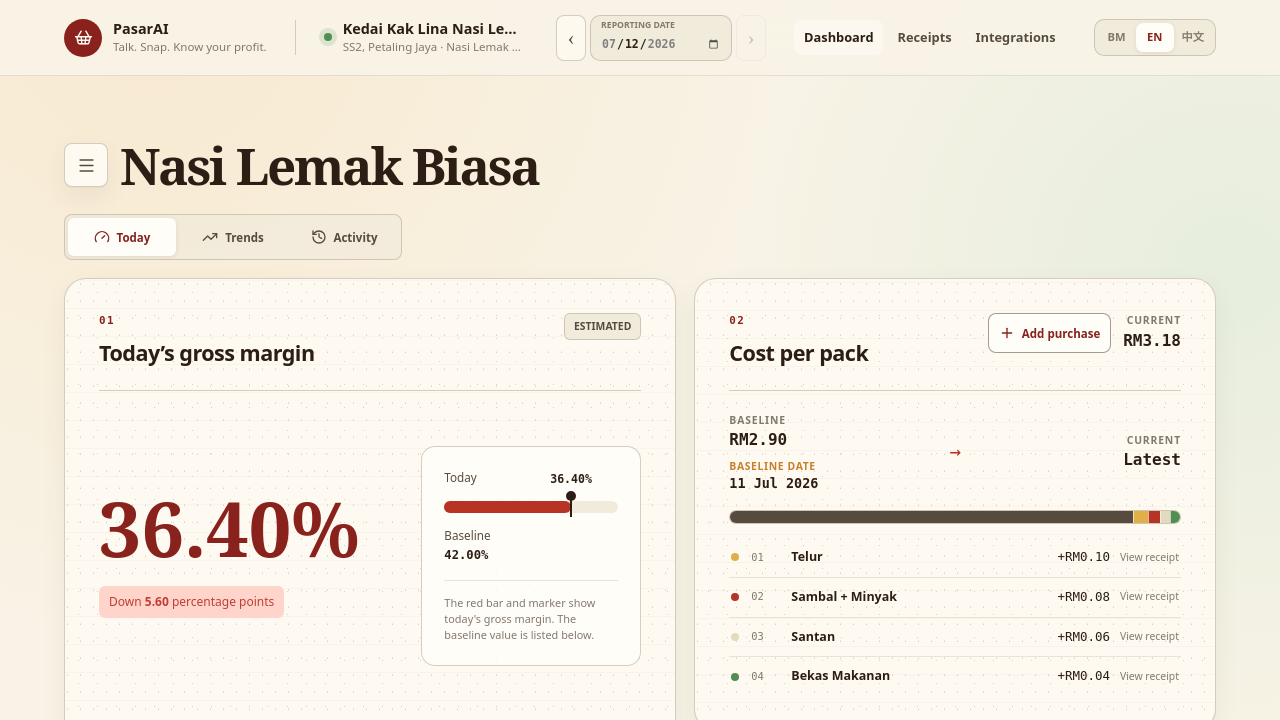
Test case: merchant dashboard › closes the product picker with Escape and restores focus
Click the button named "Choose product" at (86, 165), box [64,143,108,187]
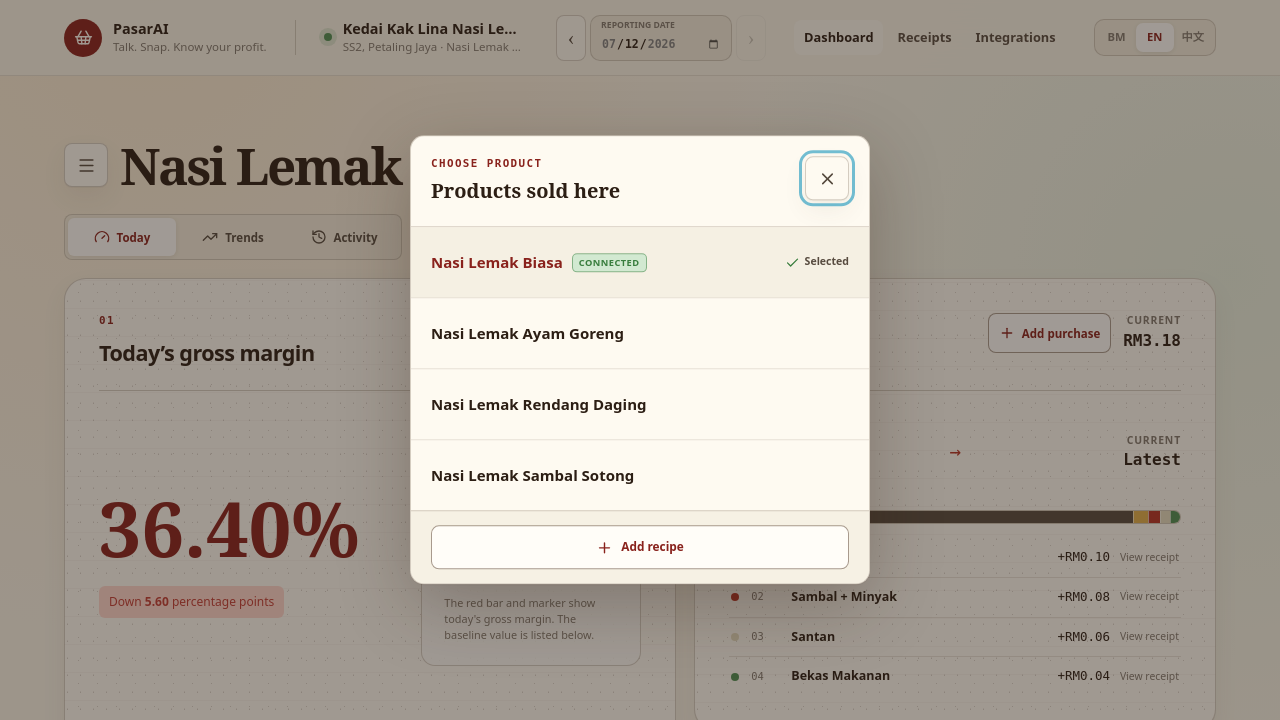
Press Escape
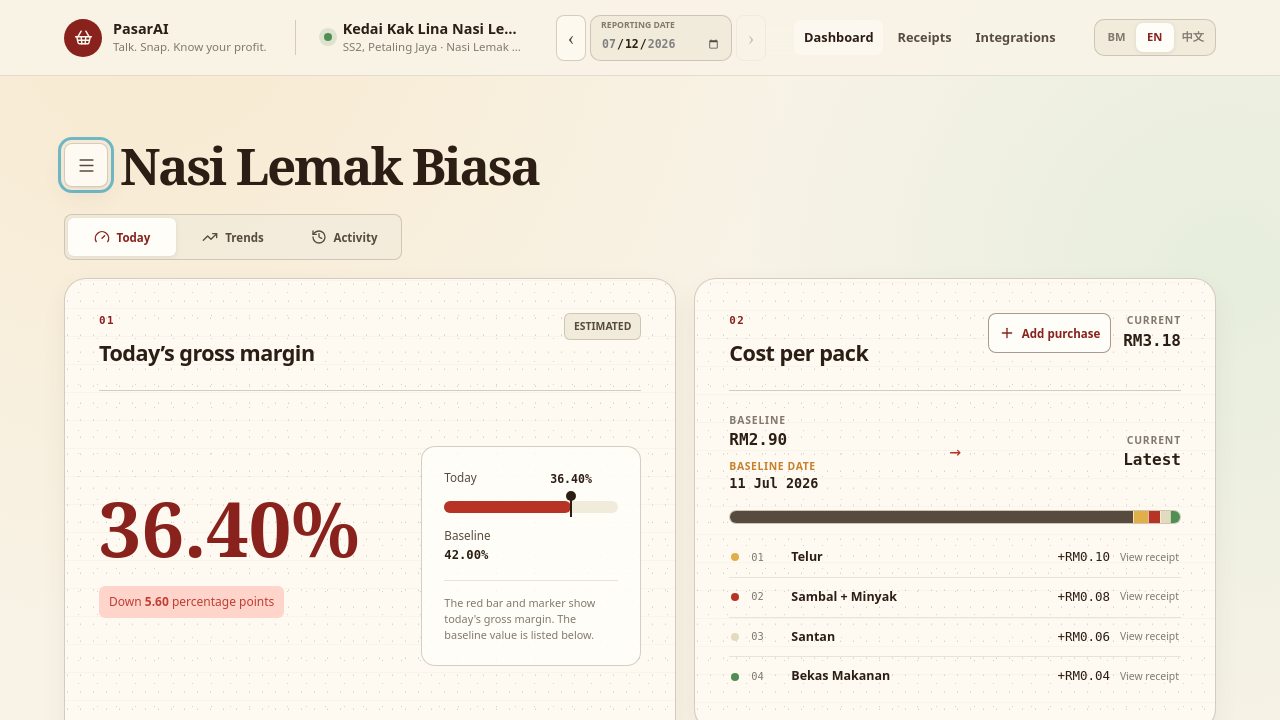
expect the heading "Products sold here" is gone: met
